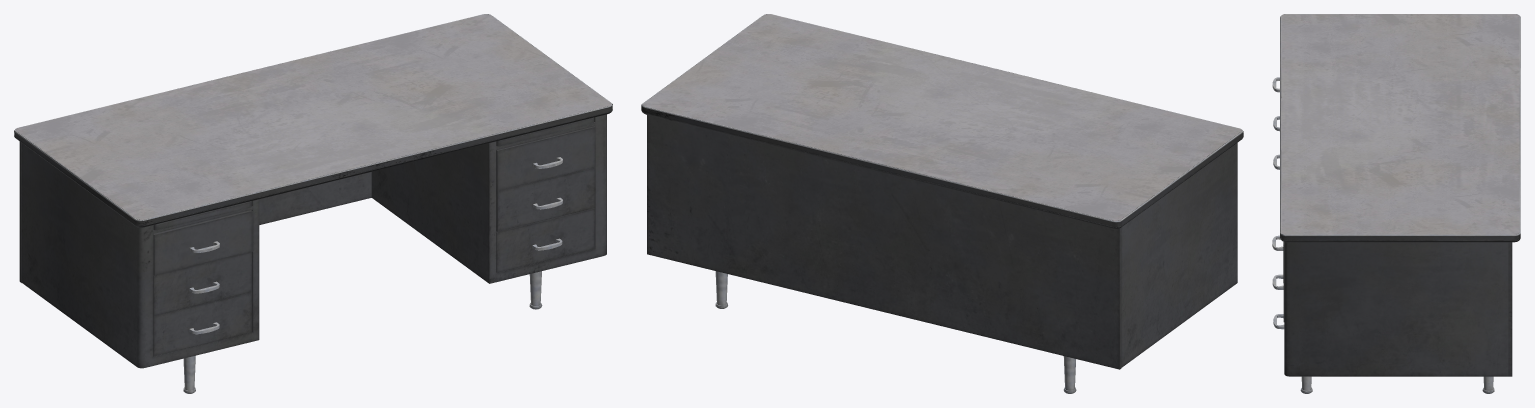
The model's file is metal_office_desk.glb.
3 views of the same model, side by side, from view 1: azimuth 30°, elevation 25°; view 2: azimuth 150°, elevation 25°; view 3: azimuth 270°, elevation 25° (orthographic). The views are drawn at different scales.
Visible parts, largest first — view 1: metal_office_desk; view 2: metal_office_desk; view 3: metal_office_desk.
Boxes of the visible parts, bbox=[...] form: metal_office_desk: bbox=[14, 14, 612, 393]; metal_office_desk: bbox=[641, 14, 1243, 393]; metal_office_desk: bbox=[1272, 14, 1520, 393].
Size of the model in its own units: 2 by 0.7875 by 0.9472.
Materials: 1 (1 with a texture image).
